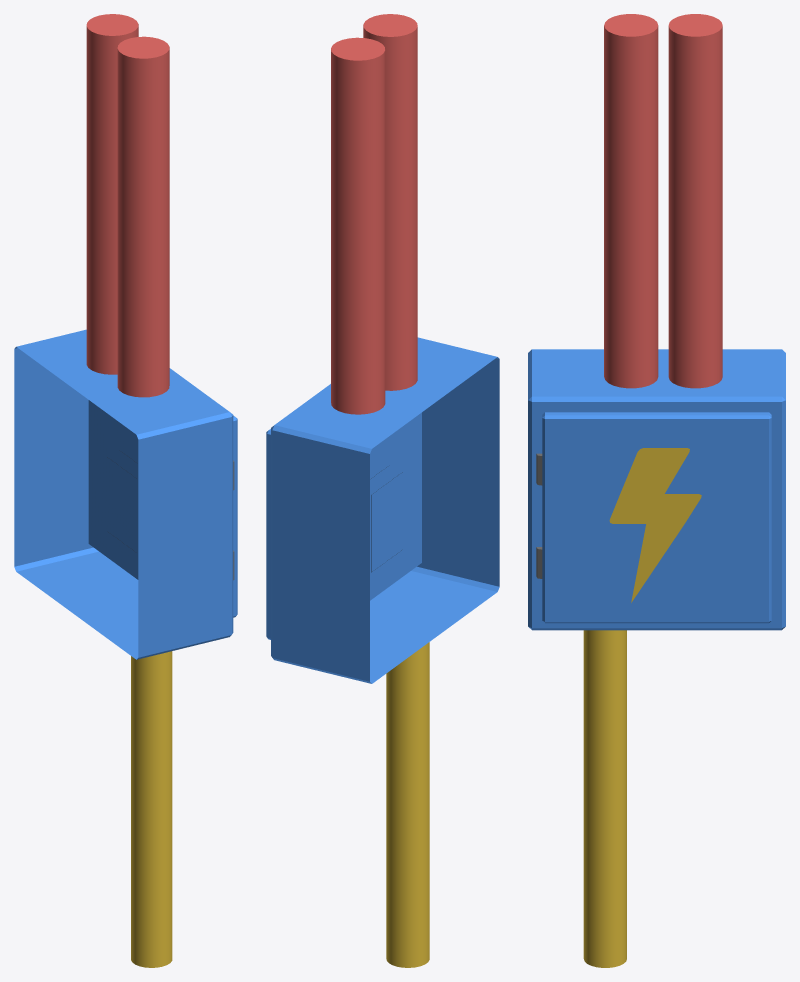
Rendered from ElectricalBoxMouthGoOpenBlockout_RB.fbx.
3 renders of one model, left to right at view 1: azimuth 30°, elevation 25°; view 2: azimuth 150°, elevation 25°; view 3: azimuth 270°, elevation 25°, orthographic. The views are drawn at different scales.
Parts seen in each view (by area): view 1: ElectricalboxWORKINGDOORUpdated, ElectricalBoxDoorUpdated; view 2: ElectricalboxWORKINGDOORUpdated, ElectricalBoxDoorUpdated; view 3: ElectricalboxWORKINGDOORUpdated, ElectricalBoxDoorUpdated.
Boxes of the visible parts, x1,y1,x2,y2 form: ElectricalboxWORKINGDOORUpdated: [14, 14, 234, 967]; ElectricalBoxDoorUpdated: [233, 415, 237, 617]; ElectricalboxWORKINGDOORUpdated: [271, 14, 499, 967]; ElectricalBoxDoorUpdated: [266, 429, 270, 639]; ElectricalboxWORKINGDOORUpdated: [528, 14, 785, 967]; ElectricalBoxDoorUpdated: [542, 412, 771, 623].
Bounding box in the file's own units: 103 × 801 × 200.
